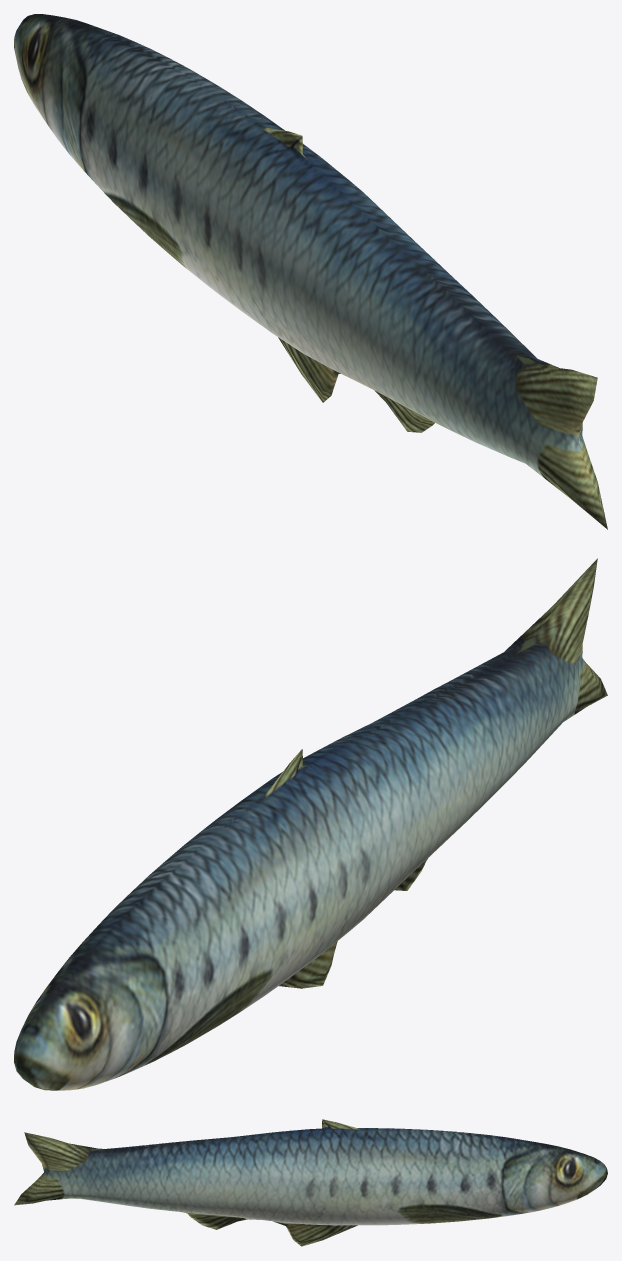
The model's file is sardine.glb.
The picture shows the model from 3 angles, top to bottom: view 1: azimuth 30°, elevation 25°; view 2: azimuth 150°, elevation 25°; view 3: azimuth 270°, elevation 25°; orthographic projection. The views are drawn at different scales.
Visible parts, largest first — view 1: Sphere; view 2: Sphere; view 3: Sphere.
Part boxes in pixels (left/top/right/bottom): Sphere: left=14, top=14, right=607, bottom=529; Sphere: left=14, top=558, right=607, bottom=1090; Sphere: left=14, top=1119, right=607, bottom=1246.
Size of the model in its own units: 0.0146 by 0.0333 by 0.1406.
1 material, 1 textured.
